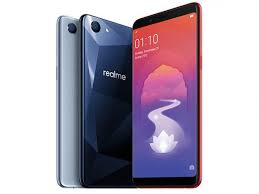nokia: (129, 4, 203, 188)
